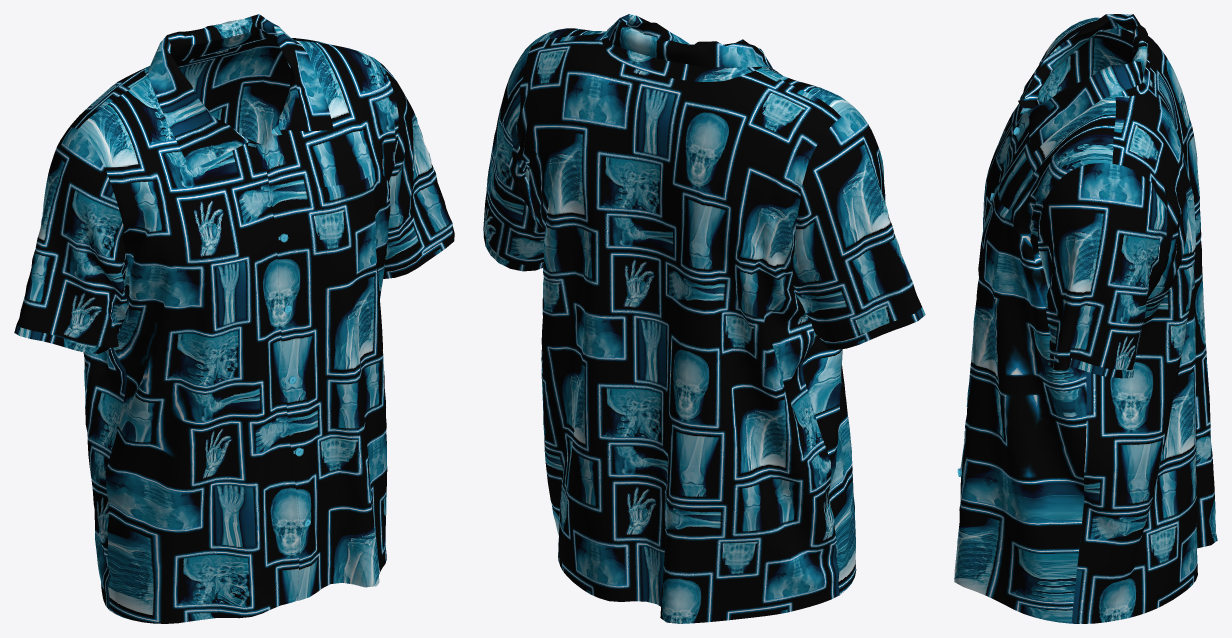
File: x-ray.glb
The picture shows the model from 3 angles, left to right: view 1: azimuth 30°, elevation 25°; view 2: azimuth 150°, elevation 25°; view 3: azimuth 270°, elevation 25°; orthographic projection. The views are drawn at different scales.
Parts seen in each view (by area): view 1: Object_6, Object_13, Object_3, Object_5, Object_12, Object_4, Object_11, Object_8, Object_7; view 2: Object_3, Object_13, Object_6, Object_12, Object_5, Object_8; view 3: Object_3, Object_6, Object_12, Object_5, Object_13, Object_11, Object_7, Object_4.
Part boxes in pixels (x1,y1,x2,y2): Object_6: (78,40,398,623); Object_13: (16,127,128,347); Object_3: (67,37,331,609); Object_5: (144,14,333,169); Object_12: (375,59,452,271); Object_4: (245,124,311,600); Object_11: (319,175,376,285); Object_8: (14,325,111,353); Object_7: (383,227,454,278); Object_3: (515,33,840,623); Object_13: (792,111,921,342); Object_6: (532,28,861,594); Object_12: (483,40,544,264); Object_5: (602,14,782,81); Object_8: (820,307,925,349); Object_3: (1071,30,1217,623); Object_6: (954,17,1116,623); Object_12: (1037,163,1171,370); Object_5: (1024,14,1150,154); Object_13: (1037,28,1133,104); Object_11: (978,180,1008,298); Object_7: (1050,358,1134,378); Object_4: (960,96,1035,479).
Bounding box in the file's own units: 0.589 × 0.7019 × 0.3166.
2 materials, 1 textured.
